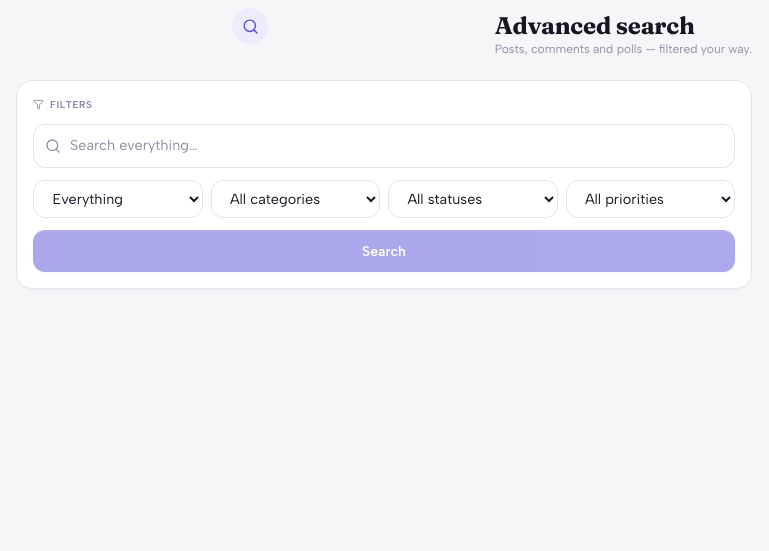
Search — query flow › renders poll results linked to /polls and counts them in the tiles
This screenshot has width=769, height=551.
Type "cafe" into the field labelled "Search everything…" at [384, 146], box [33, 124, 735, 168]
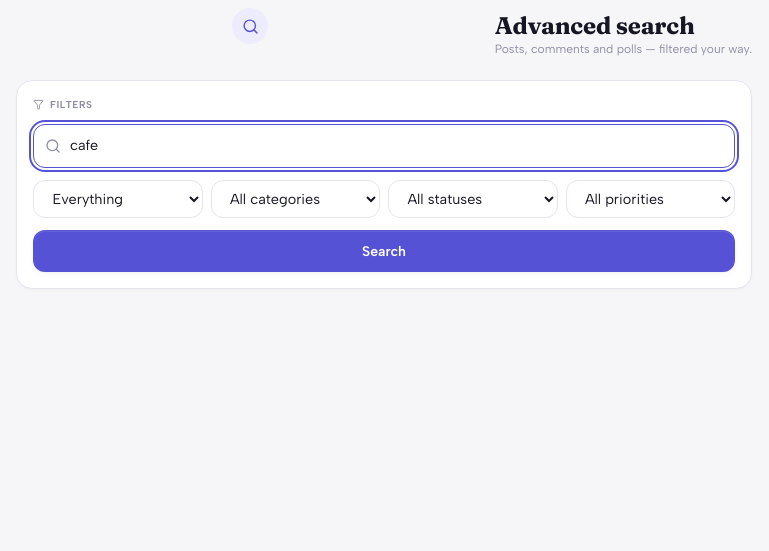
Press Enter
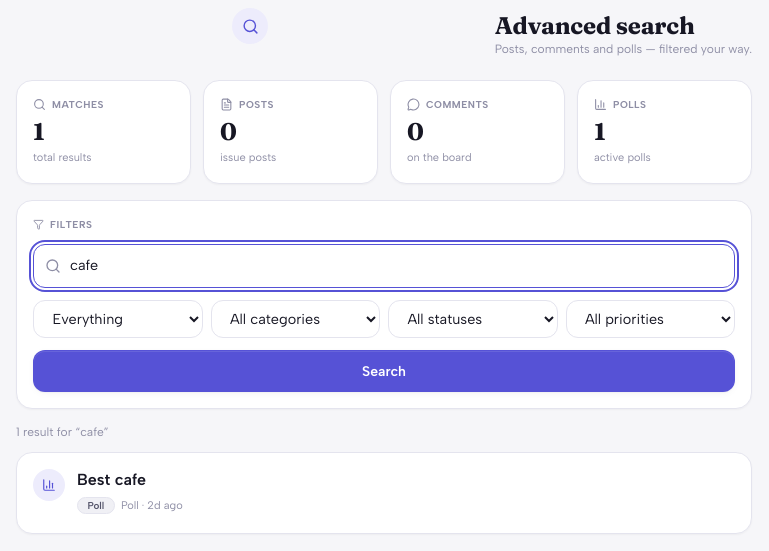
Now the text "Best cafe" is shown, box [77, 470, 146, 489]
